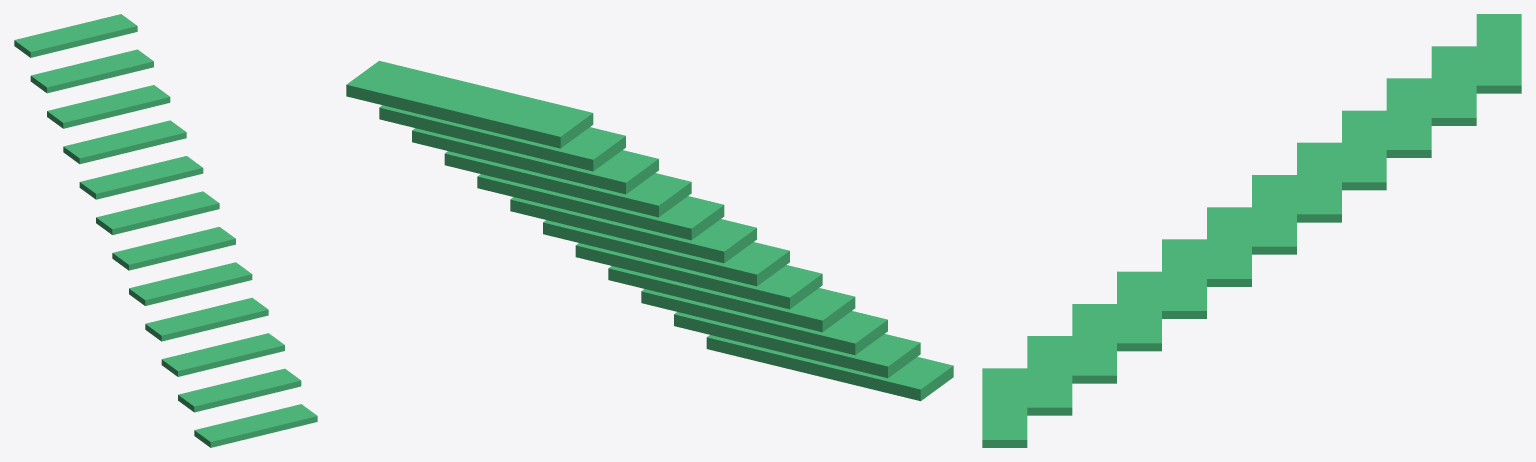
File: Stairs_066.glb
3 views of the same model, side by side, from view 1: azimuth 30°, elevation 25°; view 2: azimuth 150°, elevation 25°; view 3: azimuth 270°, elevation 25° (orthographic). The views are drawn at different scales.
Parts seen in each view (by area): view 1: Stairs_066; view 2: Stairs_066; view 3: Stairs_066.
Boxes of the visible parts, x1,y1,x2,y2 form: Stairs_066: [14, 14, 317, 447]; Stairs_066: [346, 60, 953, 401]; Stairs_066: [982, 14, 1521, 447].
Size of the model in its own units: 1.6 by 3.77 by 5.08.
Materials: 1 (1 with a texture image).
